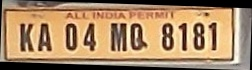character: (129, 22, 149, 51), (109, 21, 127, 52), (18, 22, 34, 53), (37, 22, 52, 52), (160, 22, 175, 51), (83, 21, 96, 51), (192, 21, 205, 51), (64, 22, 77, 51), (177, 21, 189, 52), (207, 21, 218, 51)
